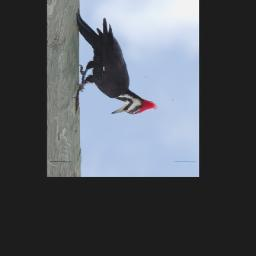Woodpecker: (73, 9, 157, 115)
